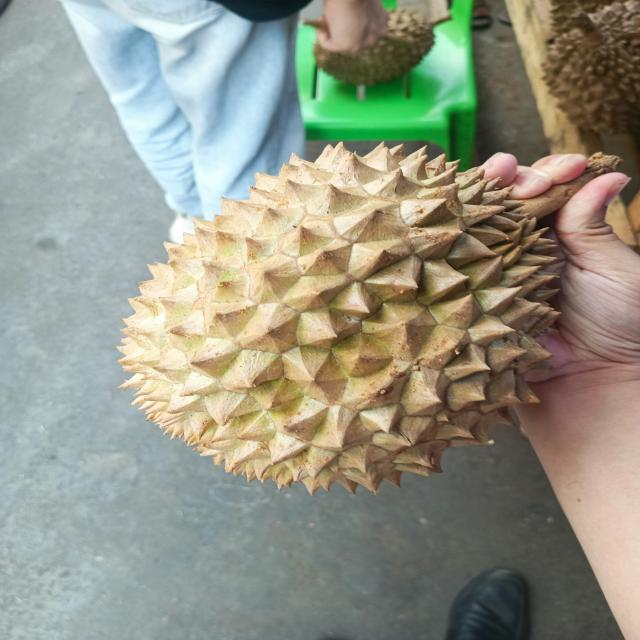mature: (112, 135, 560, 496)
